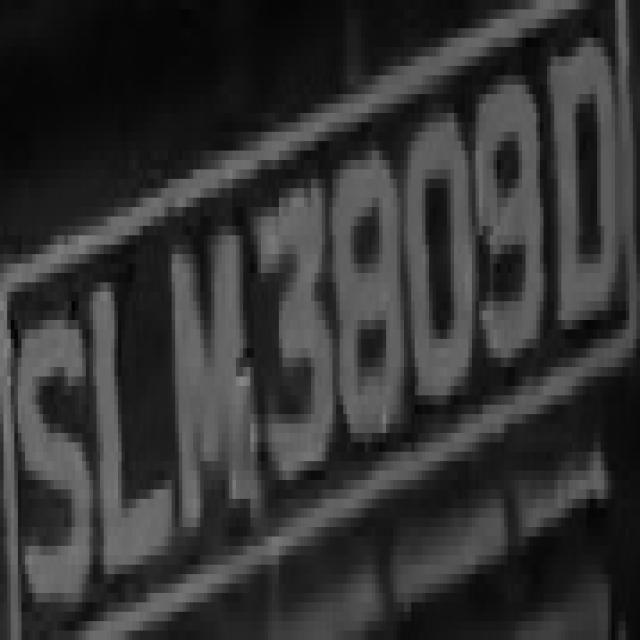0: (390, 104, 482, 424)
3: (247, 160, 336, 518)
8: (326, 113, 408, 461)
9: (461, 47, 551, 386)
D: (544, 28, 630, 348)
L: (89, 254, 179, 584)
M: (168, 216, 257, 536)
S: (18, 283, 93, 622)
